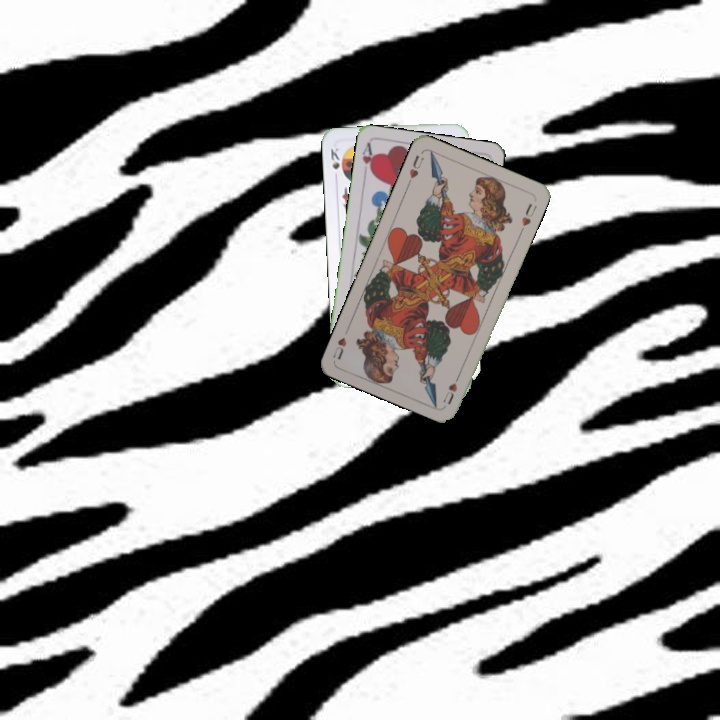HA: (358, 139, 378, 180)
HU: (439, 369, 463, 407), (404, 151, 426, 188)
SK: (326, 144, 342, 172)
